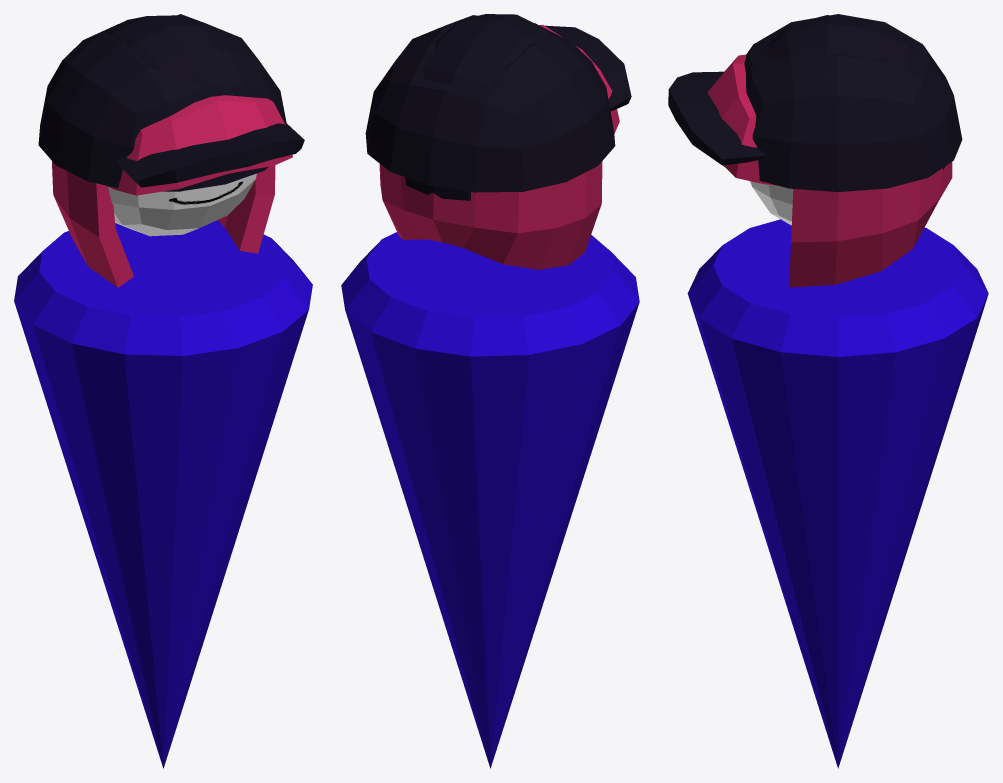
Rendered from npc_hats.fbx.
3 renders of one model, left to right at view 1: azimuth 30°, elevation 25°; view 2: azimuth 150°, elevation 25°; view 3: azimuth 270°, elevation 25°, orthographic.
Parts seen in each view (by area): view 1: NPC_Body, NPC_BowlCut, NPC_Bob, NPC_Cap, NPC_Head; view 2: NPC_Body, NPC_BowlCut, NPC_Bob, NPC_Cap, NPC_Beanie; view 3: NPC_Body, NPC_BowlCut, NPC_Bob, NPC_Cap, NPC_Head.
Boxes of the visible parts, box(x1,y1,x2,y2) form: NPC_Body: box(14, 220, 312, 768); NPC_BowlCut: box(38, 14, 286, 191); NPC_Bob: box(52, 95, 292, 287); NPC_Cap: box(100, 15, 304, 187); NPC_Head: box(108, 173, 256, 236); NPC_Body: box(341, 232, 639, 768); NPC_BowlCut: box(365, 15, 615, 192); NPC_Bob: box(379, 25, 619, 269); NPC_Cap: box(423, 14, 631, 111); NPC_Beanie: box(405, 23, 558, 200); NPC_Body: box(687, 219, 988, 768); NPC_BowlCut: box(744, 14, 962, 191); NPC_Bob: box(707, 54, 952, 287); NPC_Cap: box(668, 15, 917, 165); NPC_Head: box(749, 181, 793, 225).
Size of the model in its own units: 46.74 by 128 by 49.76.
5 materials, 1 textured.
